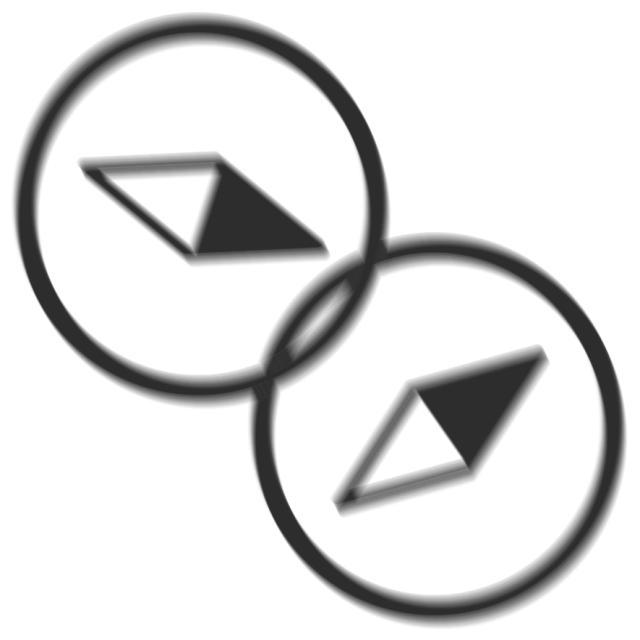compass: (7, 10, 401, 418), (240, 229, 628, 637)
